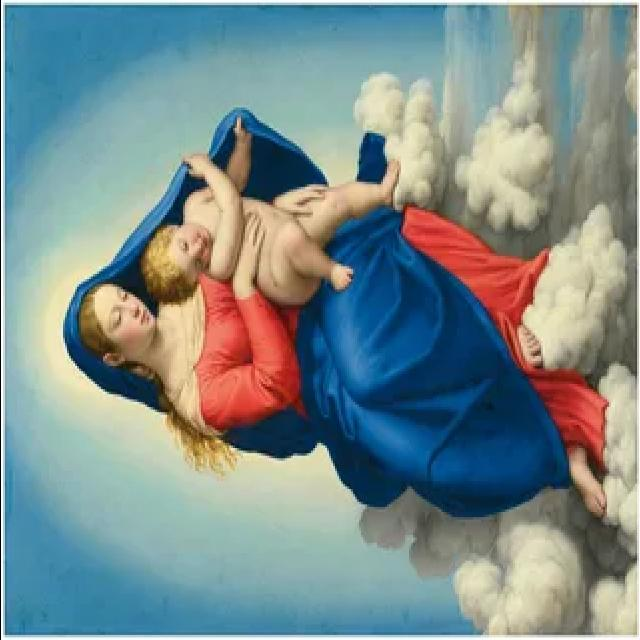mother of god: (55, 91, 623, 533)
